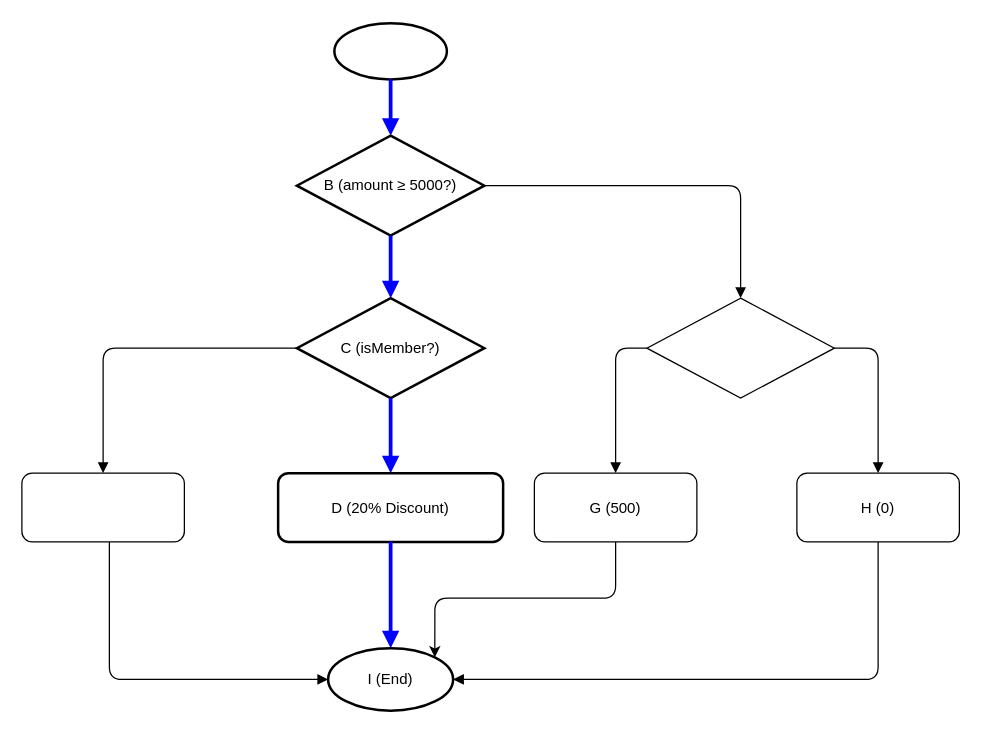
Image size: 981x733. Some labels were removed from this diagram. Here are the shapes that lost their labels. From the top down, the centre of each, then its label:
(390,50): A (Start)
(740,347): F (hasCoupon?)
(102,507): E (10%)
